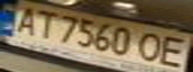0: (112, 24, 136, 57)
5: (72, 16, 96, 50)
6: (90, 20, 115, 54)
7: (51, 11, 81, 45)
A: (9, 2, 42, 36)
E: (154, 34, 193, 69)
O: (136, 29, 166, 63)
T: (27, 7, 60, 39)
